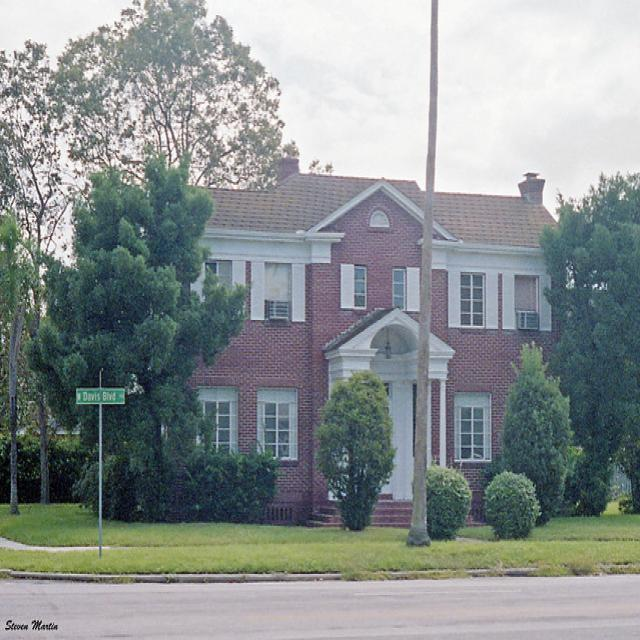Normal_building: (139, 172, 572, 539)
